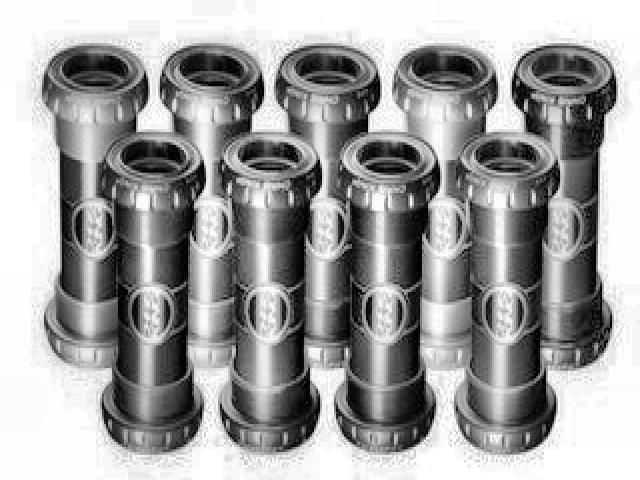bottom_bracket: (35, 41, 154, 374), (156, 38, 270, 368), (272, 44, 384, 371), (391, 44, 502, 368), (98, 133, 208, 455), (510, 41, 614, 374), (454, 130, 559, 457), (218, 132, 323, 457), (335, 130, 439, 456)
